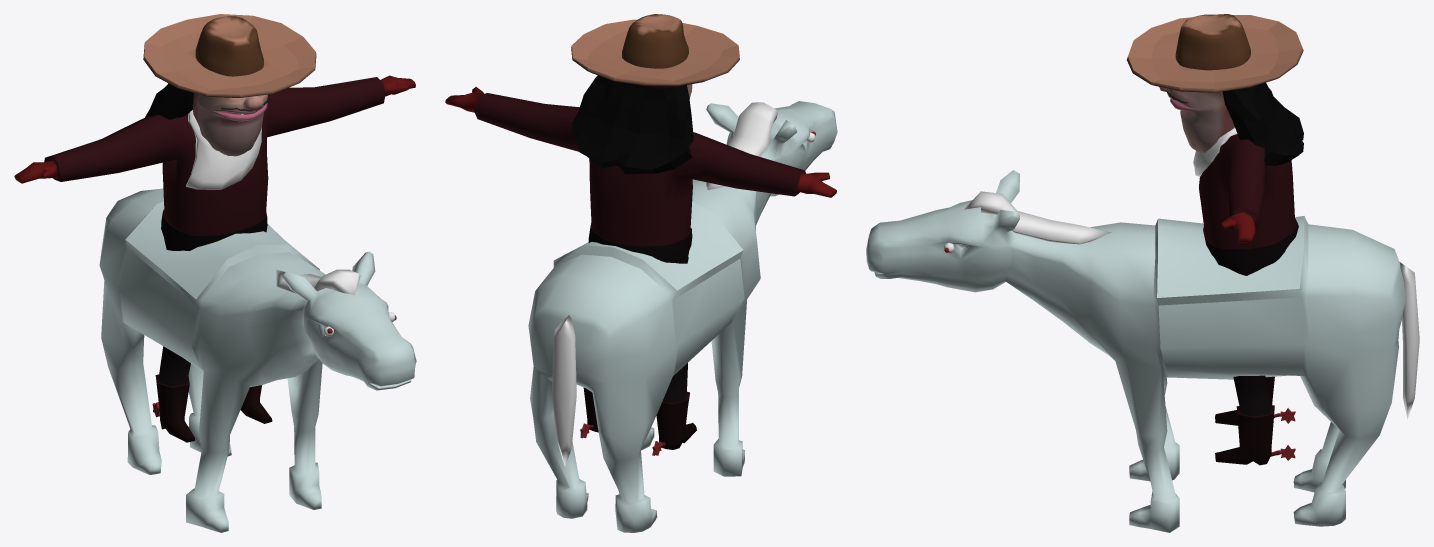
Rendered from cowbub_v4.fbx.
3 views of the same model, side by side, from view 1: azimuth 30°, elevation 25°; view 2: azimuth 150°, elevation 25°; view 3: azimuth 270°, elevation 25° (orthographic). The views are drawn at different scales.
Parts seen in each view (by area): view 1: horse, body, hat, head, hankerchief, Cube.005, hair; view 2: horse, body, hair, hat, Cube, Cube.005; view 3: horse, body, hat, hair, head, Cube.005, Cube.
Boxes of the visible parts, <box> form: horse: <box>99,188,416,532</box>; body: <box>14,75,415,442</box>; hat: <box>143,14,316,97</box>; head: <box>192,93,267,156</box>; hankerchief: <box>186,110,261,189</box>; Cube.005: <box>276,269,360,295</box>; hair: <box>145,83,193,119</box>; horse: <box>528,101,837,532</box>; body: <box>445,87,836,455</box>; hair: <box>572,75,693,174</box>; hat: <box>571,14,739,86</box>; Cube: <box>551,315,576,467</box>; Cube.005: <box>706,102,777,189</box>; horse: <box>866,170,1406,532</box>; body: <box>1199,134,1298,465</box>; hat: <box>1127,14,1303,92</box>; hair: <box>1222,82,1303,165</box>; head: <box>1159,87,1234,152</box>; Cube.005: <box>964,191,1111,244</box>; Cube: <box>1399,262,1419,419</box>.
Bounding box in the file's own units: 841 × 954 × 991.
